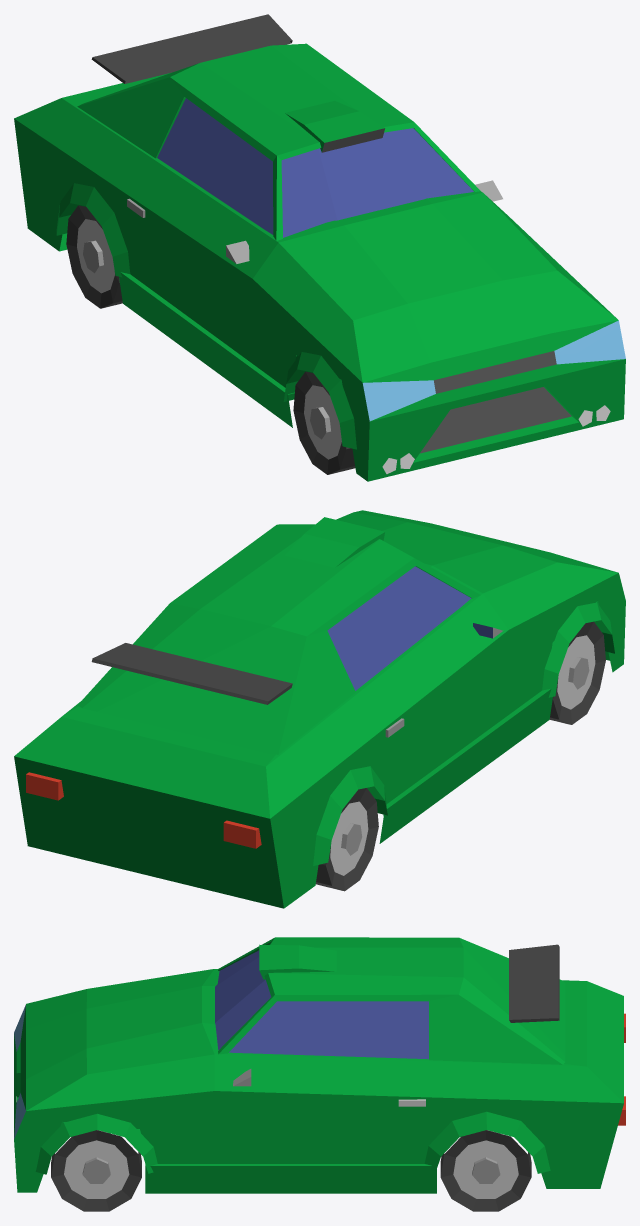
File: Car_3.fbx
3 views of the same model, one above another, from view 1: azimuth 30°, elevation 25°; view 2: azimuth 150°, elevation 25°; view 3: azimuth 270°, elevation 25° (orthographic). The views are drawn at different scales.
Parts seen in each view (by area): view 1: Car_3; view 2: Car_3; view 3: Car_3.
Boxes of the visible parts, x1,y1,x2,y2 form: Car_3: (14, 14, 625, 481); Car_3: (14, 510, 625, 908); Car_3: (14, 937, 625, 1211).
Bounding box in the file's own units: 0.7865 × 0.6442 × 1.78.
